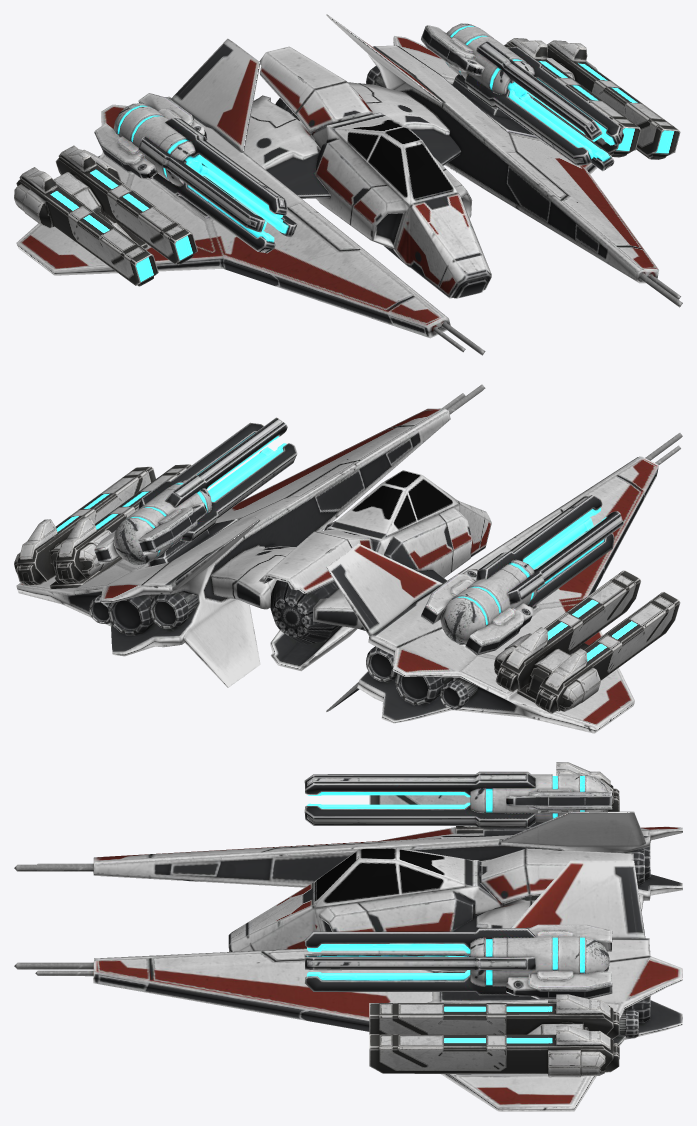
The model's file is spacecraft.gltf.
3 views of the same model, one above another, from view 1: azimuth 30°, elevation 25°; view 2: azimuth 150°, elevation 25°; view 3: azimuth 270°, elevation 25° (orthographic).
Visible parts, largest first — view 1: node_PlayerShip3_-3316, node_LaserBarrels_-22706, node_Rails_-17192, node_Rails_-7366, node_LaserBarrels_-17568, node_RailGun1_(1)_-17198, node_RailGun1_-7360, node_LaserGun2_(1)_-22712; view 2: node_PlayerShip3_-3316, node_LaserBarrels_-22706, node_LaserBarrels_-17568, node_Rails_-7366, node_Rails_-17192, node_RailGun1_(1)_-17198, node_RailGun1_-7360, node_LaserGun2_(1)_-22712, node_LaserGun2_-17562; view 3: node_PlayerShip3_-3316, node_LaserBarrels_-17568, node_Rails_-7366, node_Rails_-17192, node_RailGun1_-7360, node_RailGun1_(1)_-17198, node_LaserBarrels_-22706.
Boxes of the visible parts, x1,y1,x2,y2 form: node_PlayerShip3_-3316: (16,14,682,355); node_LaserBarrels_-22706: (14,145,197,286); node_Rails_-17192: (138,117,297,253); node_Rails_-7366: (464,40,623,171); node_LaserBarrels_-17568: (504,38,680,159); node_RailGun1_(1)_-17198: (94,93,234,218); node_RailGun1_-7360: (421,23,537,137); node_LaserGun2_(1)_-22712: (54,172,148,248); node_PlayerShip3_-3316: (16,384,682,733); node_LaserBarrels_-22706: (494,570,680,713); node_LaserBarrels_-17568: (14,464,191,585); node_Rails_-7366: (138,417,297,542); node_Rails_-17192: (476,495,623,607); node_RailGun1_(1)_-17198: (421,560,538,655); node_RailGun1_-7360: (94,480,237,566); node_LaserGun2_(1)_-22712: (516,643,588,702); node_LaserGun2_-17562: (50,543,122,588); node_PlayerShip3_-3316: (14,811,682,1111); node_LaserBarrels_-17568: (369,994,619,1077); node_Rails_-7366: (304,928,535,995); node_Rails_-17192: (304,771,535,828); node_RailGun1_-7360: (441,924,612,1002); node_RailGun1_(1)_-17198: (441,774,612,838); node_LaserBarrels_-22706: (369,762,619,811).
Size of the model in its own units: 4.25 by 1.02 by 4.17.
Materials: 3 (3 with a texture image).
